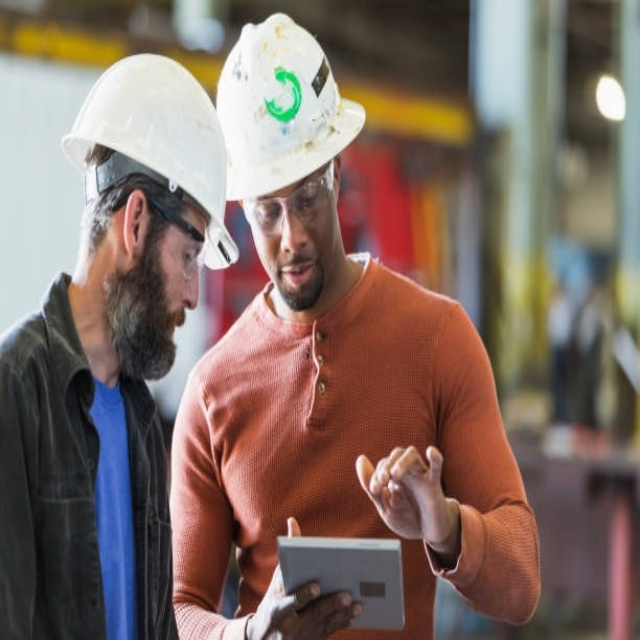Gafas: (89, 160, 215, 272), (245, 162, 336, 236)
Sin_guantes: (248, 518, 368, 635), (356, 439, 453, 543)
Sin_mascara: (150, 306, 195, 375), (274, 254, 321, 311)
